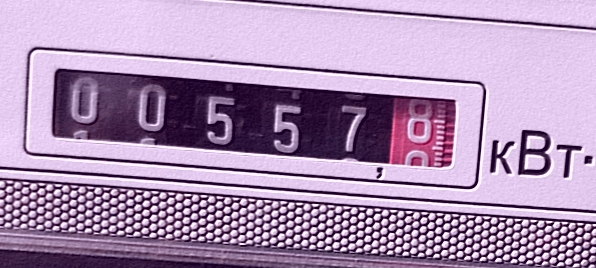0: (65, 71, 103, 129), (133, 80, 170, 134)
5: (267, 97, 307, 157), (201, 91, 238, 149)
7: (333, 100, 368, 156)
8: (404, 96, 435, 147)
screen: (17, 39, 492, 195)
